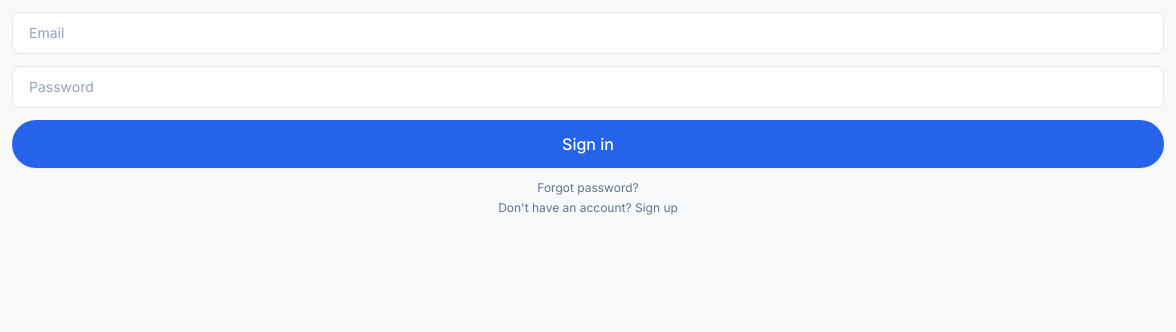
EmailPasswordForm › rejects sign-up when the passwords do not match
Click the button "Don't have an account? Sign up": coordinates (588, 208) left=498, top=200, right=678, bottom=216
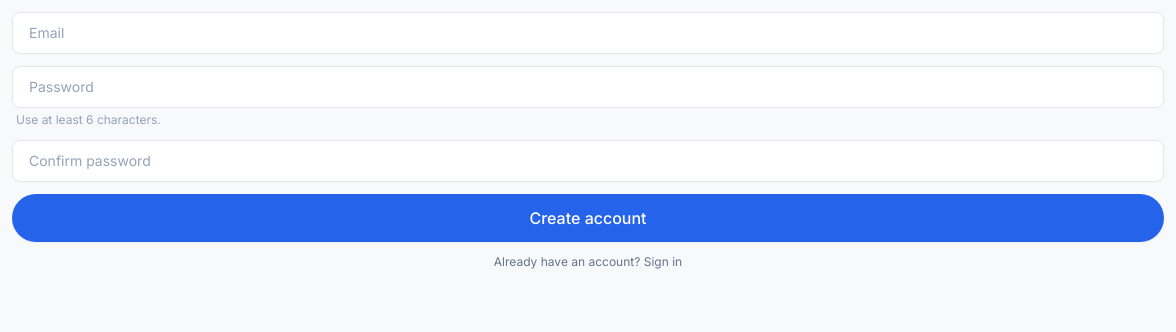
In the field with placeholder "Email": coordinates (588, 33) left=12, top=12, right=1164, bottom=54, type "jane@example.com"
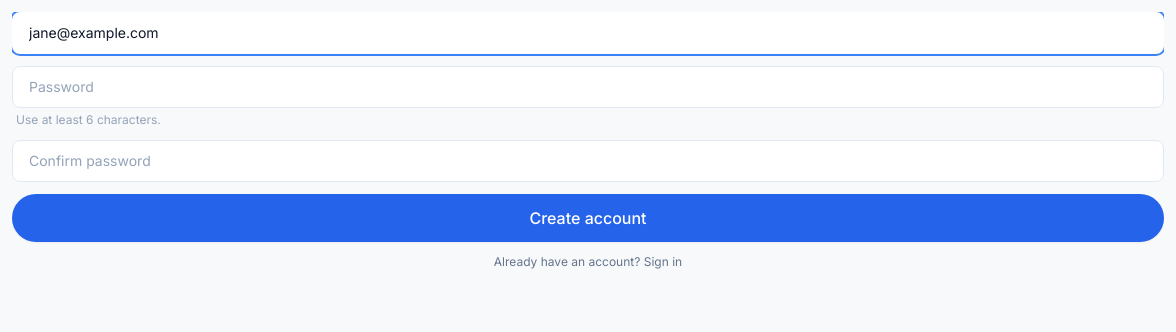
In the password field with placeholder "Password": coordinates (588, 87) left=12, top=66, right=1164, bottom=108, type "secret123"
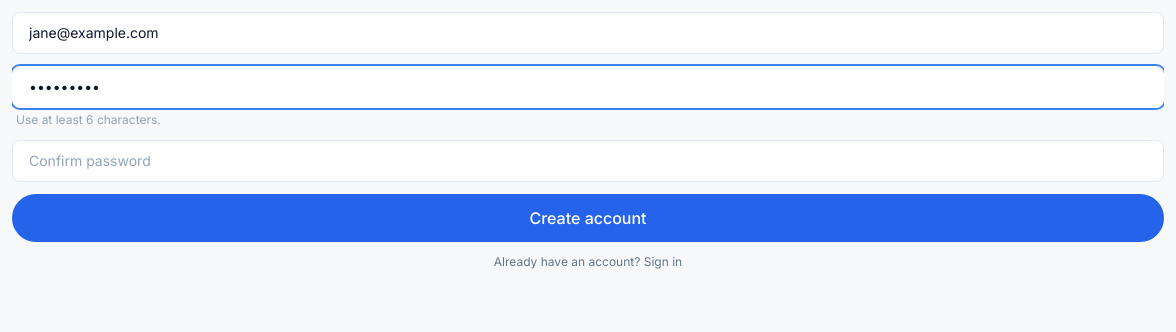
In the password field with placeholder "Confirm password": coordinates (588, 161) left=12, top=140, right=1164, bottom=182, type "different"
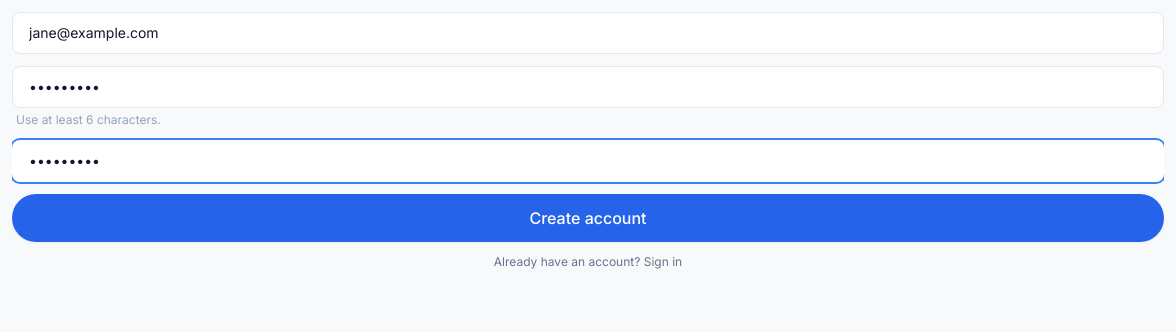
Click the button "Create account": coordinates (588, 218) left=12, top=194, right=1164, bottom=242
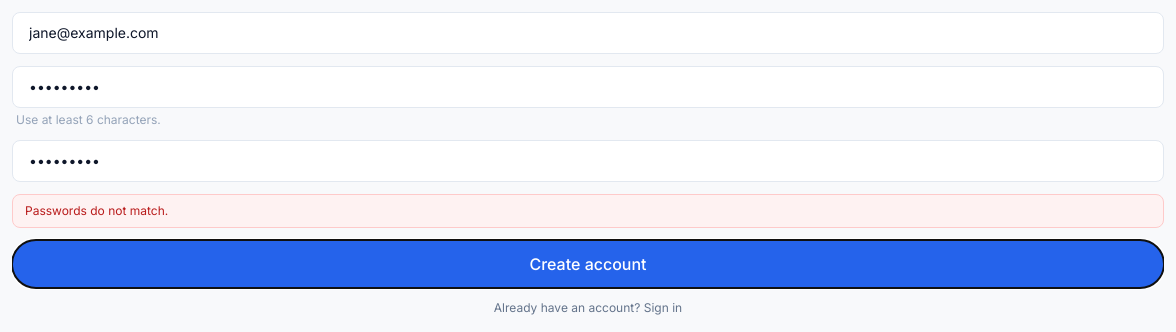
Now the text "Passwords do not match." is shown, box left=12, top=194, right=1164, bottom=228
